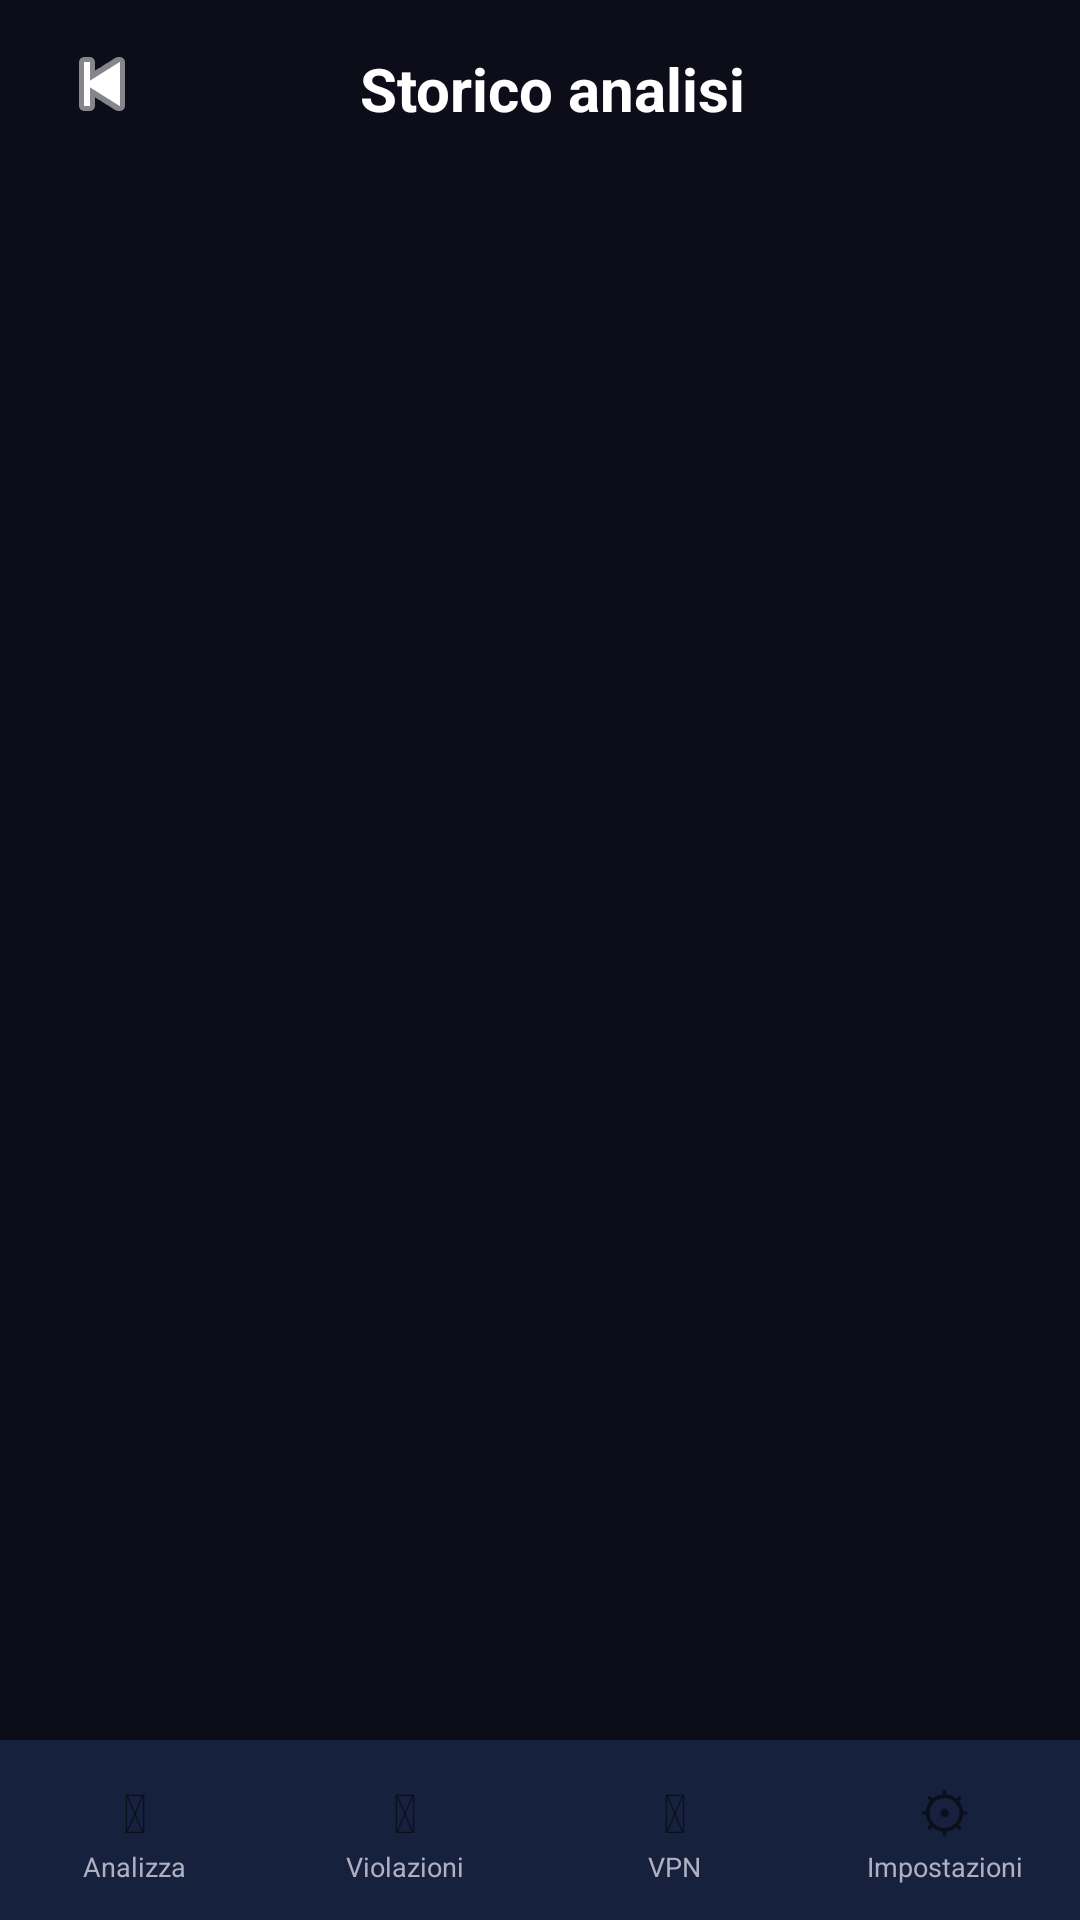

Screen size 1080w x 1920h. Icon name, then its center in pixels as (x,y):
previous: (102,84)
